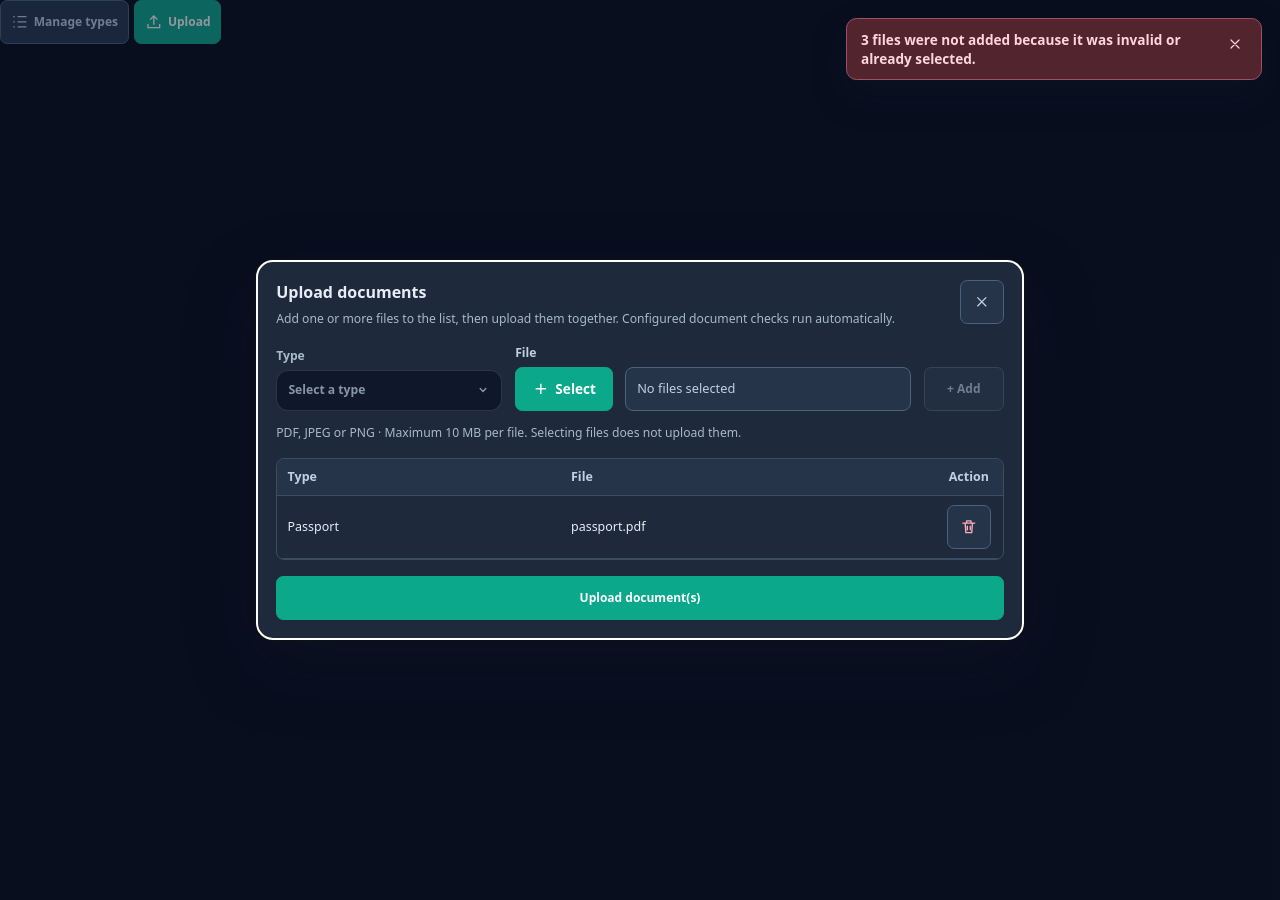
Scenario: CaseDocumentActionsComponent › stages unique valid files and removes a row without uploading
Click the button with class "danger" at [969, 527], box [947,505,991,549]
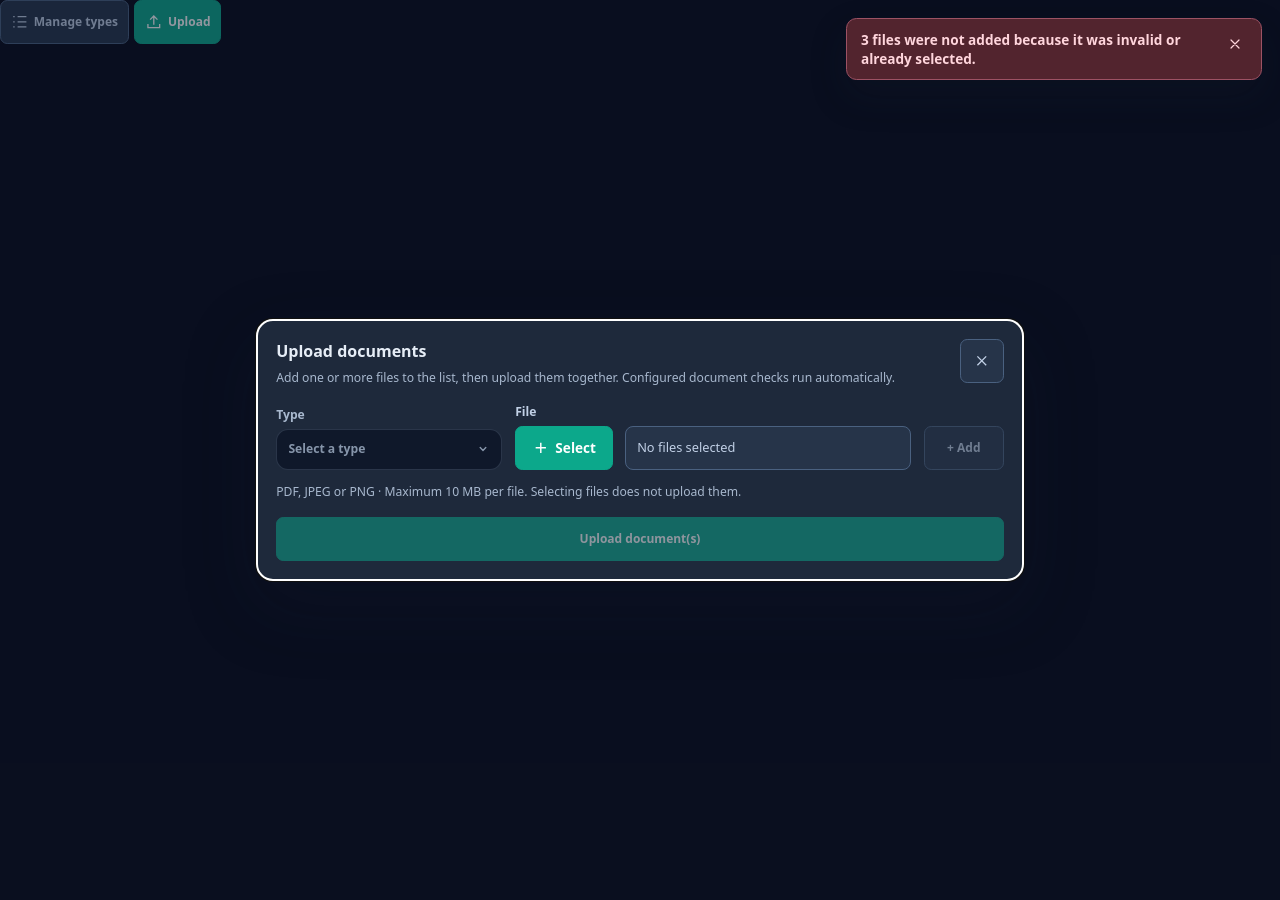
Now the element with class "upload-table" is gone
